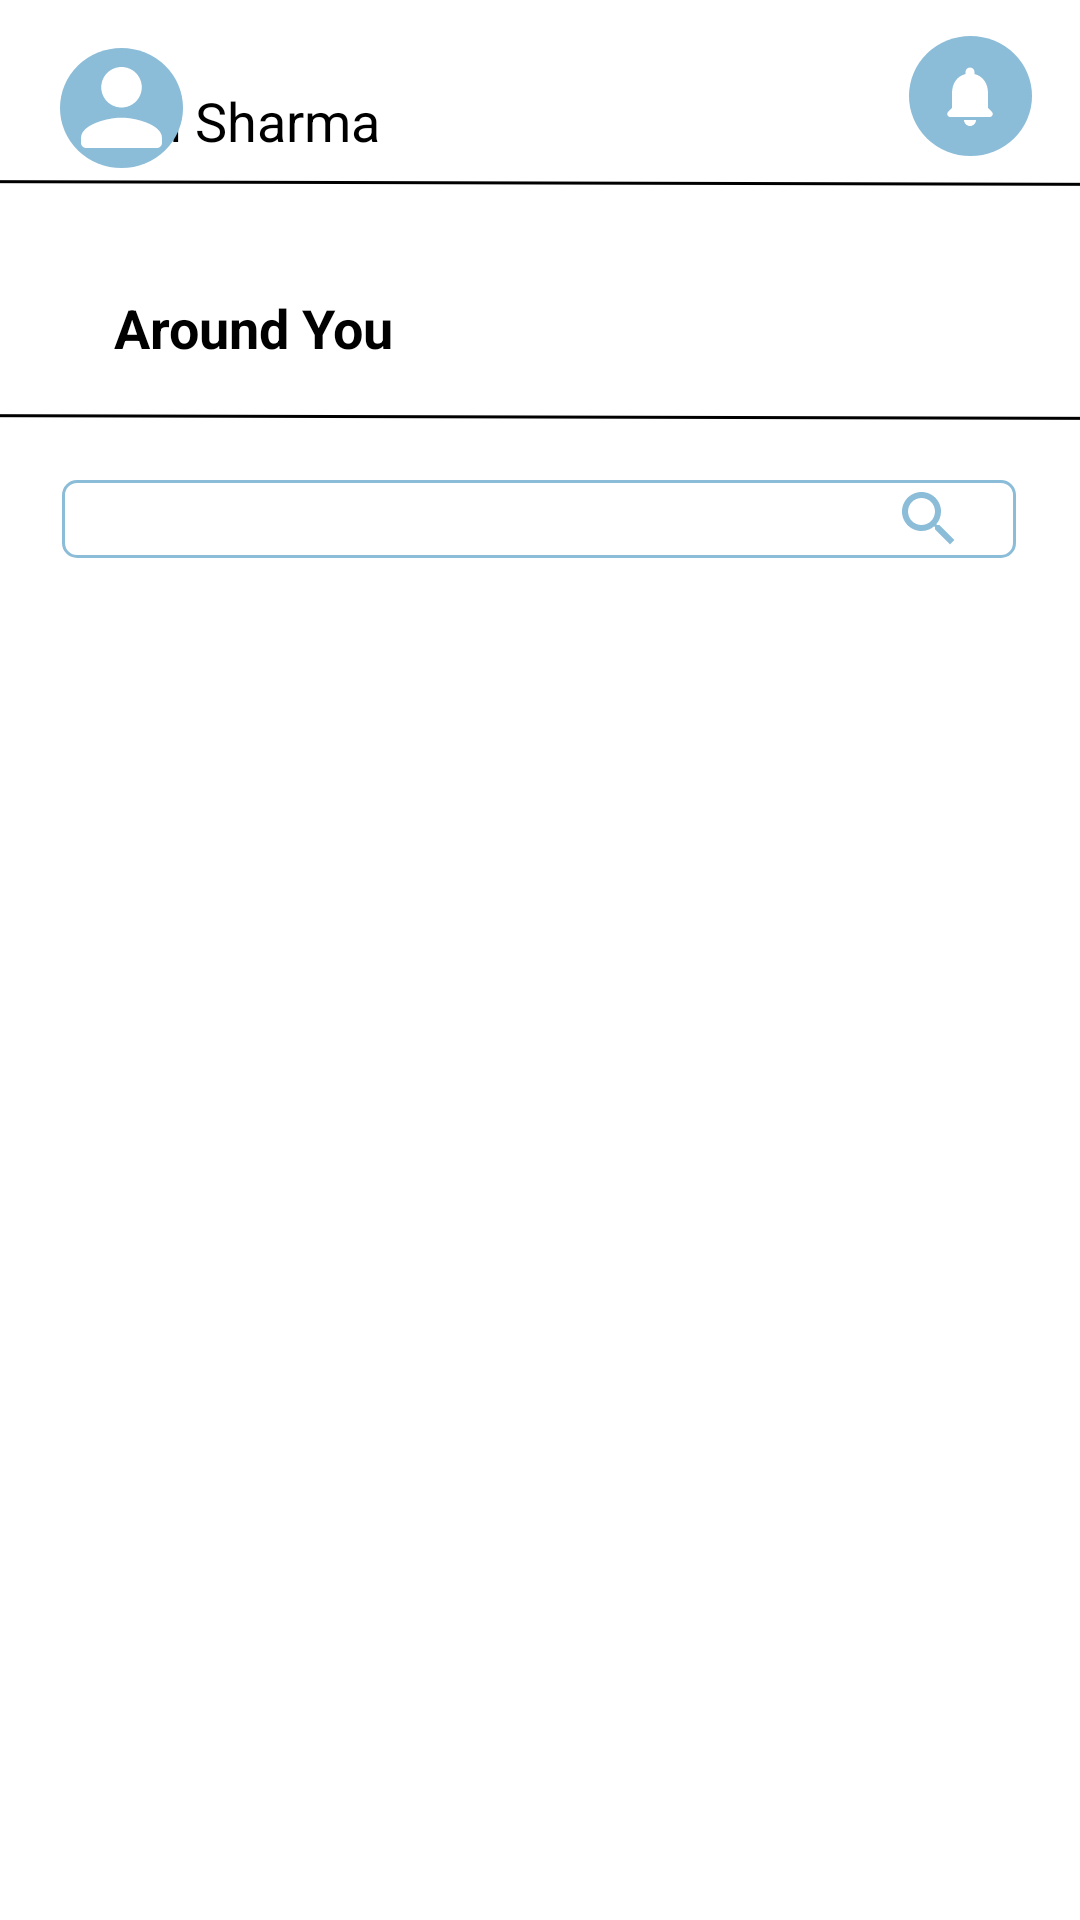

Icons on this 1080w x 1920h Android screen, each with its box as (x1, y1, x2, y2):
notification: (909, 36, 1032, 156)
profile: (60, 48, 183, 168)
